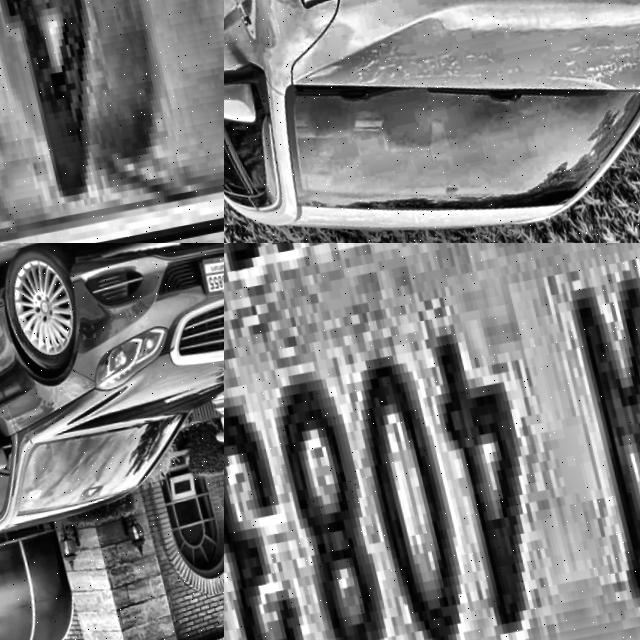license-plate: (224, 243, 640, 640), (0, 0, 224, 243), (194, 253, 224, 304)
